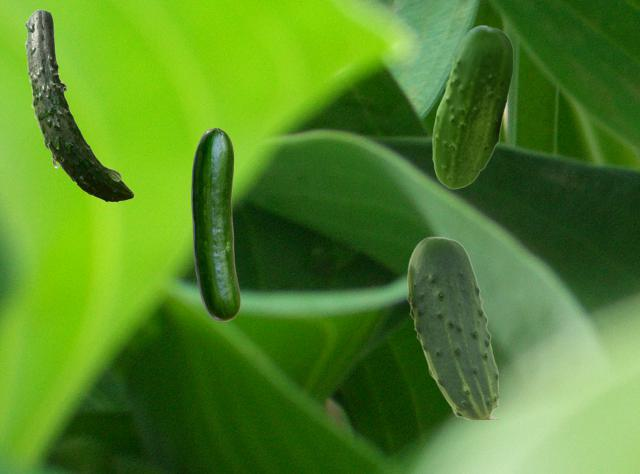cucumber: (24, 9, 133, 201), (407, 236, 497, 418), (432, 25, 512, 188), (191, 128, 239, 320)
